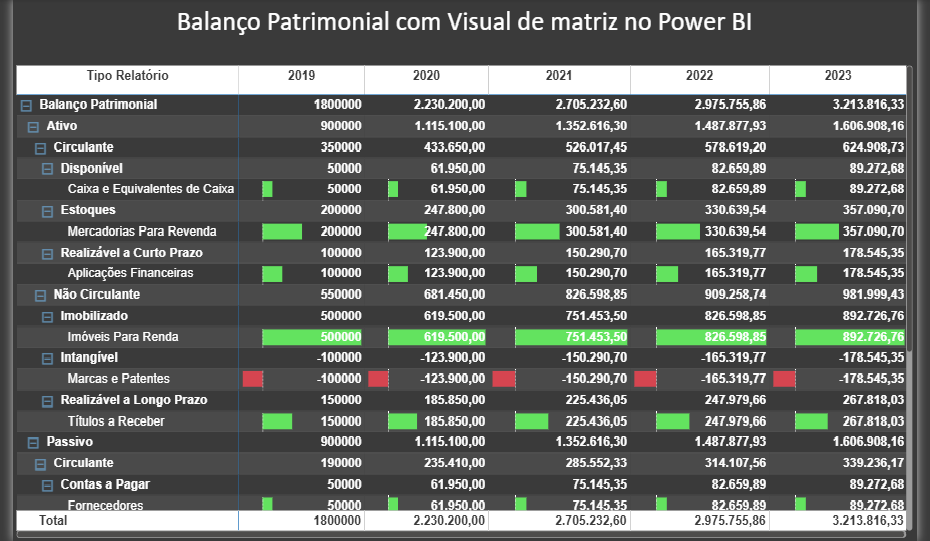

This screenshot's page, from the dashboard's own definition file:
{"tool":"powerbi","page":{"name":"Página 1","canvas":[1280,720],"ordinal":0},"visuals":[{"type":"pivotTable","fields":{"Rows":["PlanoContas.Tipo Relatório","PlanoContas.Conta Nível 1","PlanoContas.Conta Nível 2","PlanoContas.Conta Nível 3","PlanoContas.Conta Nível 4"],"Values":["Sum(DadosContabeis.Ano_2019)","Sum(DadosContabeis.Ano_2020)","Sum(DadosContabeis.Ano_2021)","Sum(DadosContabeis.Ano_2022)","Sum(DadosContabeis.Ano_2023)"]},"box":[0,84,1280,636.6],"z":0},{"type":"textbox","box":[0,0,1280,84],"z":1000}]}

Visuals, with their boxes on the page's 1280x720 design canvas (x1, y1, x2, y2). These are canvas units, not pixel positions in the 930x541 screenshot, which may show the page scaled, cropped or inside an application window:
pivotTable - PlanoContas.Tipo Relatório x PlanoContas.Conta Nível 1: {"x1": 0, "y1": 84, "x2": 1280, "y2": 721}
textbox: {"x1": 0, "y1": 0, "x2": 1280, "y2": 84}
